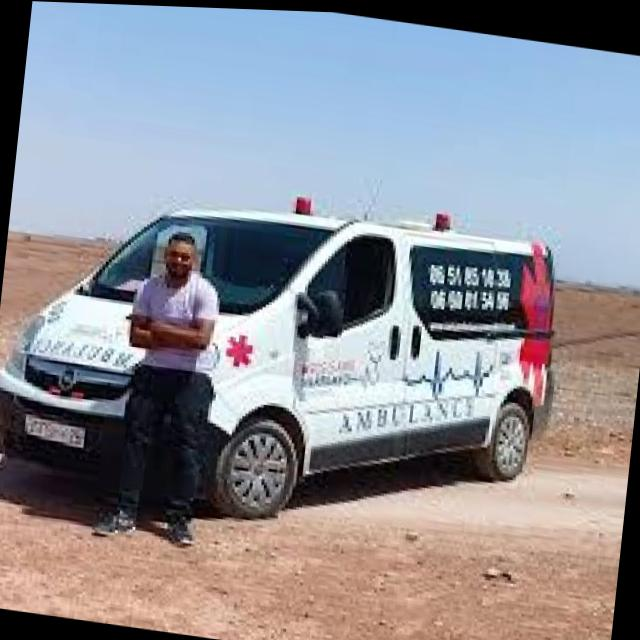ambulance: (0, 145, 585, 581)
